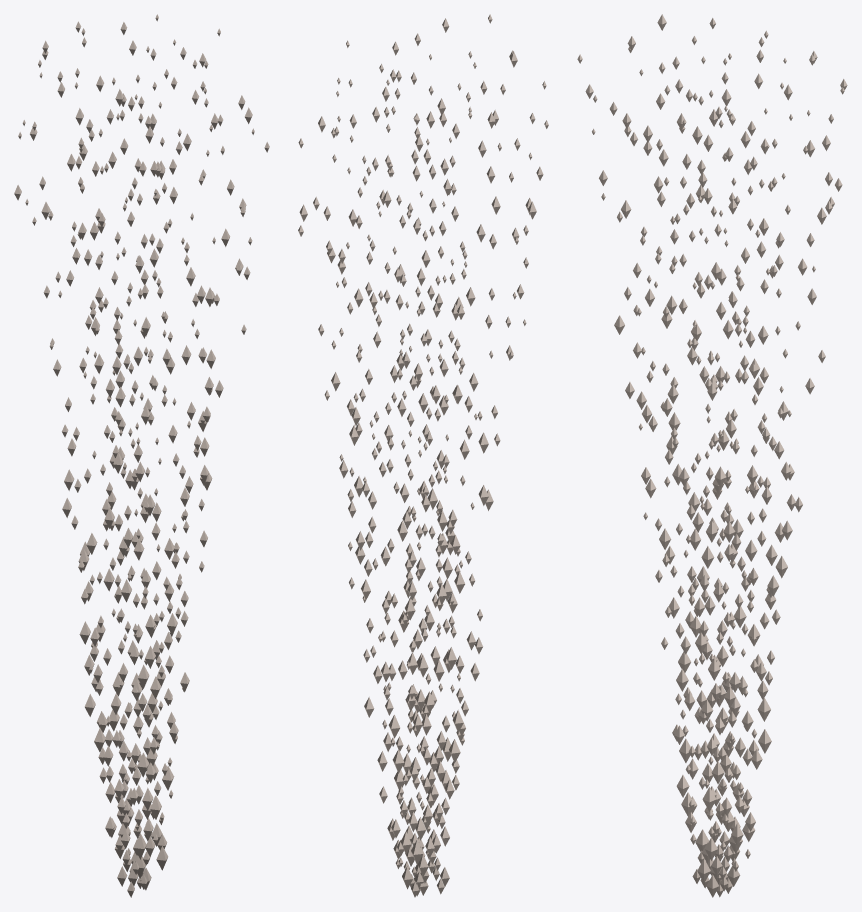
Rendered from sugar-spray.glb.
The picture shows the model from 3 angles, left to right: view 1: azimuth 30°, elevation 25°; view 2: azimuth 150°, elevation 25°; view 3: azimuth 270°, elevation 25°; orthographic projection.
Bounding box in the file's own units: 2 × 7.11 × 2.04.
